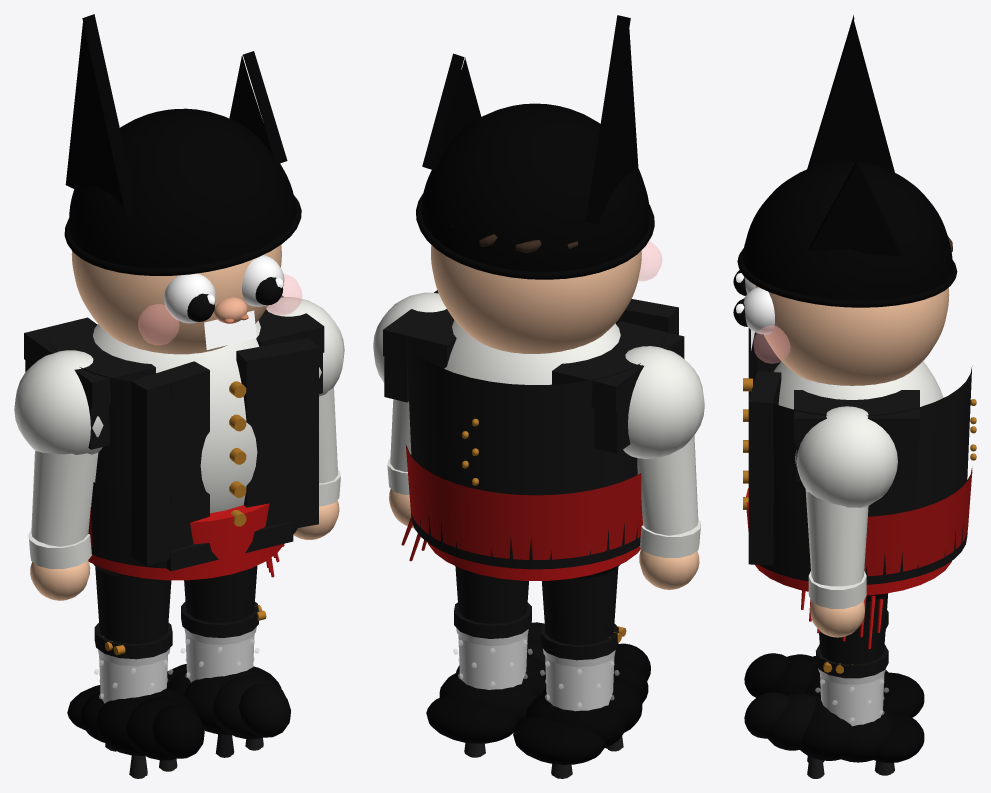
Rendered from asturiano3.glb.
3 views of the same model, side by side, from view 1: azimuth 30°, elevation 25°; view 2: azimuth 150°, elevation 25°; view 3: azimuth 270°, elevation 25° (orthographic). The views are drawn at different scales.
Parts seen in each view (by area): view 1: mesh_60, mesh_99, mesh_100, mesh_1, mesh_91, mesh_123, mesh_125, mesh_112, mesh_63, mesh_132, mesh_95, mesh_93 (+33 smaller); view 2: mesh_60, mesh_92, mesh_94, mesh_1, mesh_123, mesh_91, mesh_132, mesh_125, mesh_95, mesh_169, mesh_224, mesh_187 (+28 smaller); view 3: mesh_60, mesh_1, mesh_92, mesh_124, mesh_94, mesh_67, mesh_100, mesh_128, mesh_69, mesh_97, mesh_93, mesh_91 (+21 smaller).
Part boxes in pixels (<box>): mesh_60: <box>69,108,295,268</box>; mesh_99: <box>131,361,209,565</box>; mesh_100: <box>236,338,318,528</box>; mesh_1: <box>71,245,281,354</box>; mesh_91: <box>93,320,260,513</box>; mesh_123: <box>14,350,103,454</box>; mesh_125: <box>31,451,98,546</box>; mesh_112: <box>88,503,284,580</box>; mesh_63: <box>65,20,128,210</box>; mesh_132: <box>95,567,171,643</box>; mesh_95: <box>24,317,155,408</box>; mesh_93: <box>91,465,297,568</box>; mesh_60: <box>421,103,649,271</box>; mesh_92: <box>406,331,666,494</box>; mesh_94: <box>405,444,642,560</box>; mesh_1: <box>431,245,641,353</box>; mesh_123: <box>623,346,704,458</box>; mesh_91: <box>444,320,620,384</box>; mesh_132: <box>542,567,618,644</box>; mesh_125: <box>637,435,698,535</box>; mesh_95: <box>552,321,684,412</box>; mesh_169: <box>513,717,605,764</box>; mesh_224: <box>426,696,518,743</box>; mesh_187: <box>455,566,528,623</box>; mesh_60: <box>742,161,952,300</box>; mesh_1: <box>755,285,949,385</box>; mesh_92: <box>773,366,972,516</box>; mesh_124: <box>795,406,897,507</box>; mesh_94: <box>864,468,972,576</box>; mesh_67: <box>813,33,894,172</box>; mesh_100: <box>748,371,781,565</box>; mesh_128: <box>805,489,868,586</box>; mesh_69: <box>809,163,900,256</box>; mesh_97: <box>794,390,919,442</box>; mesh_93: <box>759,468,971,584</box>; mesh_91: <box>773,361,943,409</box>.
Size of the model in its own units: 0.9477 by 2.16 by 0.6839.
